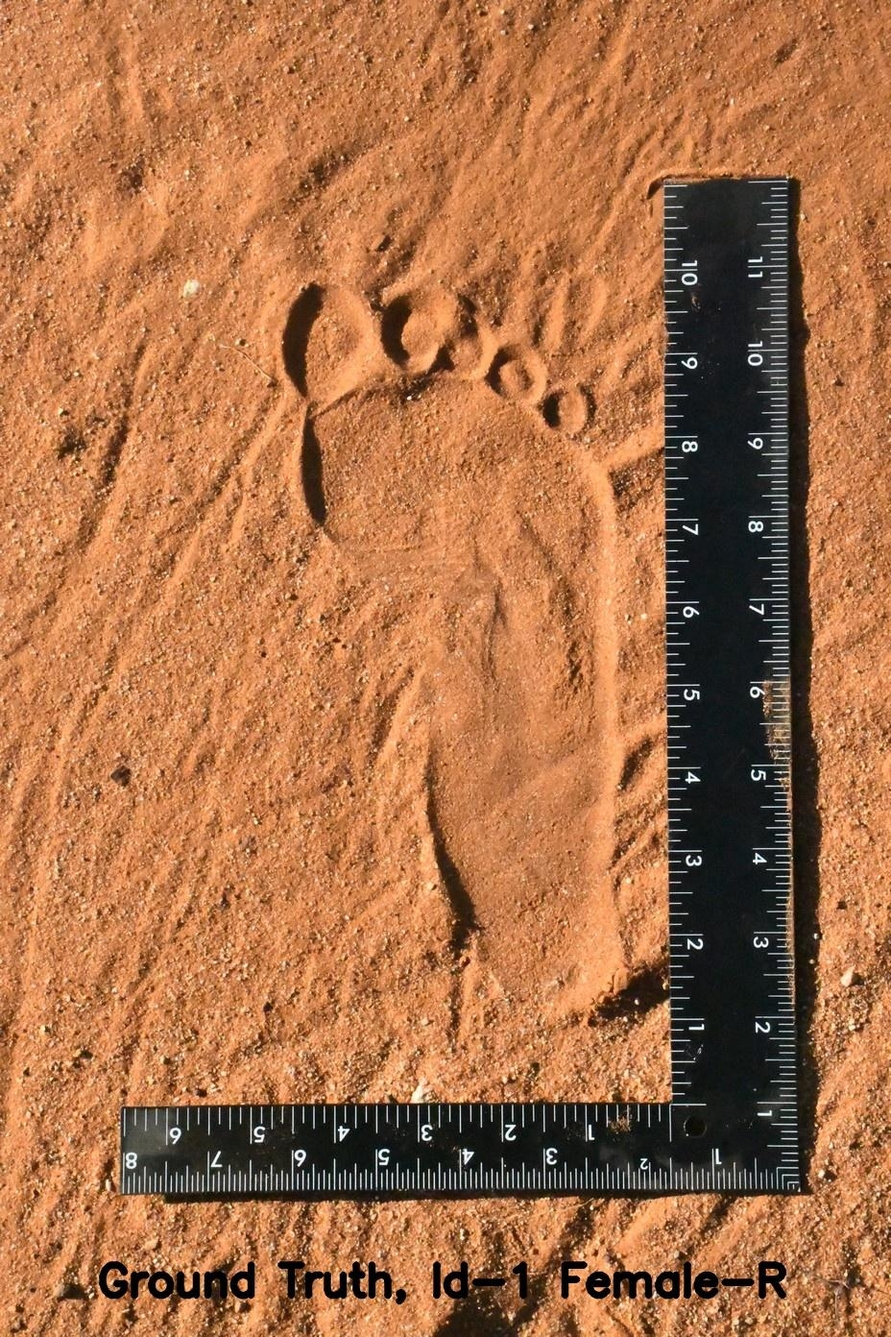human_foot_print: (260, 238, 672, 1069)
